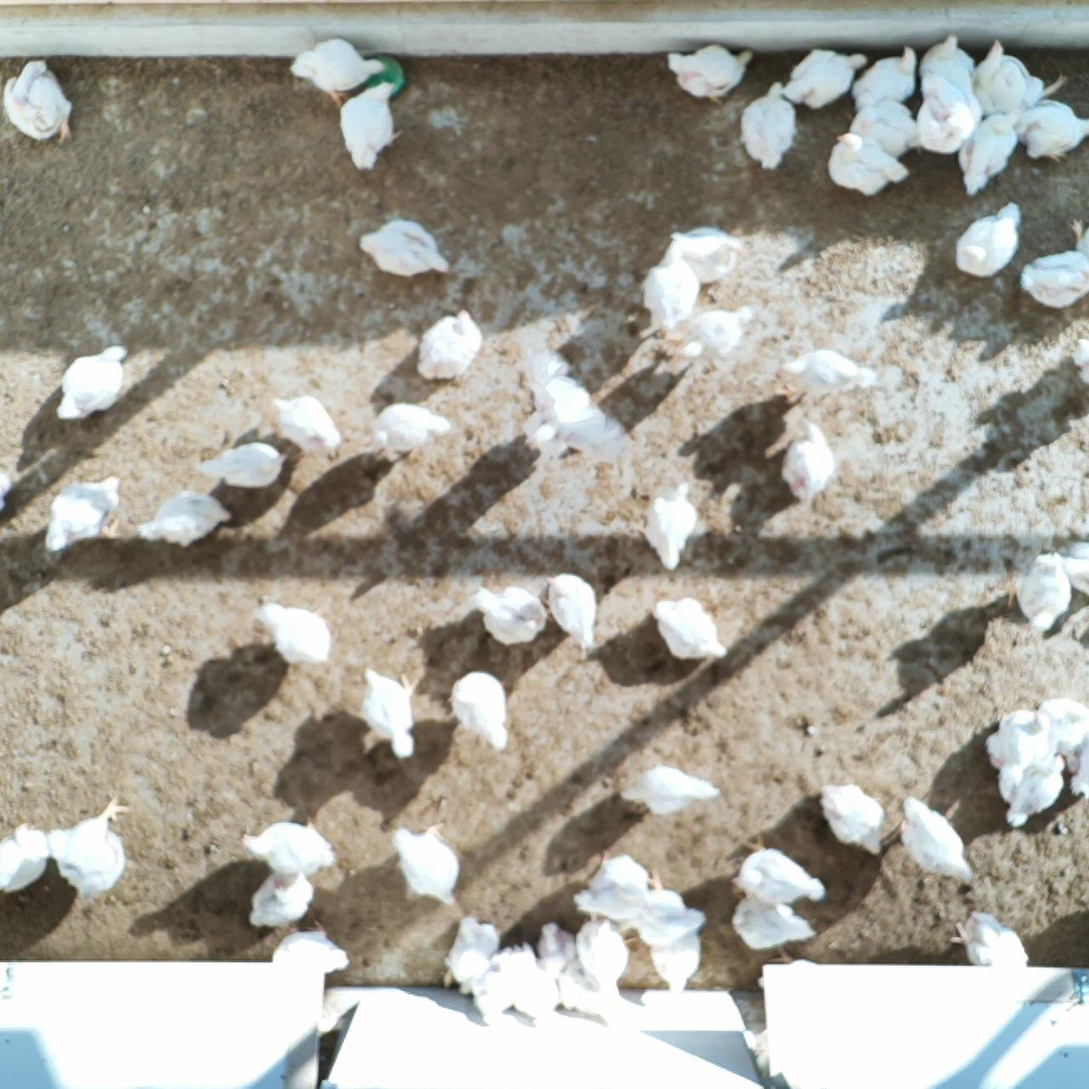chicken: (48, 794, 134, 901), (891, 793, 976, 889), (341, 663, 425, 760), (970, 38, 1068, 118), (288, 34, 388, 110), (1, 57, 80, 150), (728, 832, 826, 905), (40, 474, 125, 557), (334, 76, 406, 172), (388, 821, 465, 910), (623, 867, 706, 948), (131, 487, 235, 551), (53, 344, 134, 426), (241, 814, 340, 881), (774, 346, 877, 410), (356, 215, 454, 282), (571, 849, 652, 926), (634, 479, 701, 572), (663, 41, 756, 107), (366, 398, 456, 466), (825, 130, 911, 201), (778, 46, 869, 113), (728, 895, 816, 964), (443, 669, 513, 755), (949, 200, 1023, 281), (955, 109, 1021, 199), (1004, 550, 1075, 633), (738, 80, 800, 175), (412, 307, 486, 386), (271, 391, 348, 466), (469, 580, 549, 651), (439, 913, 505, 998), (192, 439, 292, 495), (650, 594, 730, 663), (618, 762, 722, 815), (817, 781, 888, 858), (253, 601, 337, 666), (673, 303, 755, 369), (949, 907, 1032, 970), (1013, 98, 1089, 166), (659, 224, 742, 286), (779, 417, 838, 503), (640, 253, 701, 336), (492, 944, 560, 1016), (542, 572, 601, 653), (574, 918, 632, 1000), (244, 868, 317, 933), (271, 917, 351, 976), (1004, 755, 1067, 829), (849, 43, 917, 111), (850, 92, 918, 160), (1018, 248, 1089, 312), (0, 820, 53, 898), (1037, 695, 1089, 774), (916, 32, 979, 97), (915, 90, 978, 155), (986, 707, 1048, 767), (649, 935, 704, 996), (467, 968, 516, 1026), (534, 920, 577, 973), (557, 967, 600, 1018)
